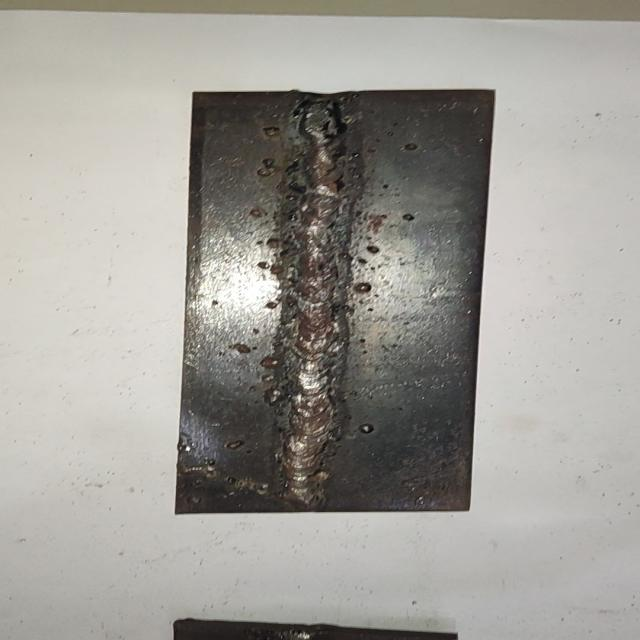Bad Weld: (276, 97, 368, 503)
Defect: (261, 90, 404, 202)
